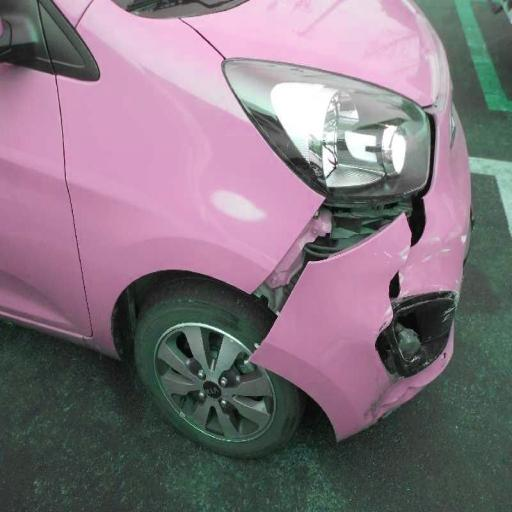broken: (225, 140, 479, 421)
